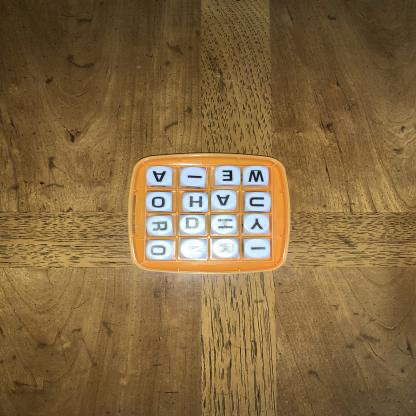a: (148, 167, 173, 185), (214, 192, 237, 209)
d: (183, 216, 203, 233)
e: (218, 168, 239, 185)
h: (185, 194, 208, 212), (213, 217, 237, 233)
i: (247, 241, 271, 259), (183, 168, 207, 186)
n: (184, 241, 207, 260)
o: (148, 241, 172, 259), (148, 194, 172, 212)
r: (215, 240, 237, 258), (149, 218, 172, 235)
u: (249, 195, 270, 211)
w: (245, 167, 270, 186)
y: (246, 216, 269, 234)
